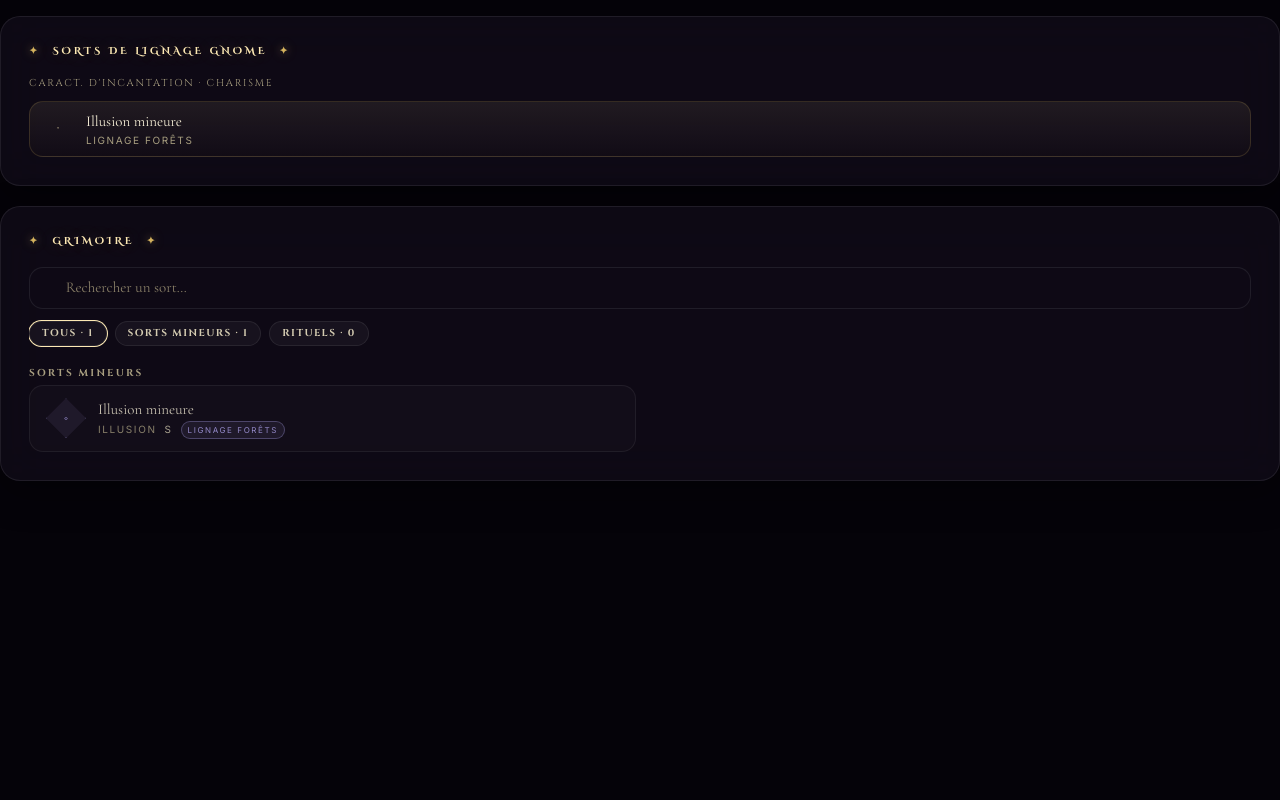
Scenario: <MagieMode> — sort d'ascendance ouvre la modale détail (non-caster) › Gnome Forêt Roublard L1 → clic sur Illusion mineure ouvre la modale + cantrip lançable
Click the button "· Illusion mineure Lignage Forêts" at (134, 121), box [29,101,1251,157]
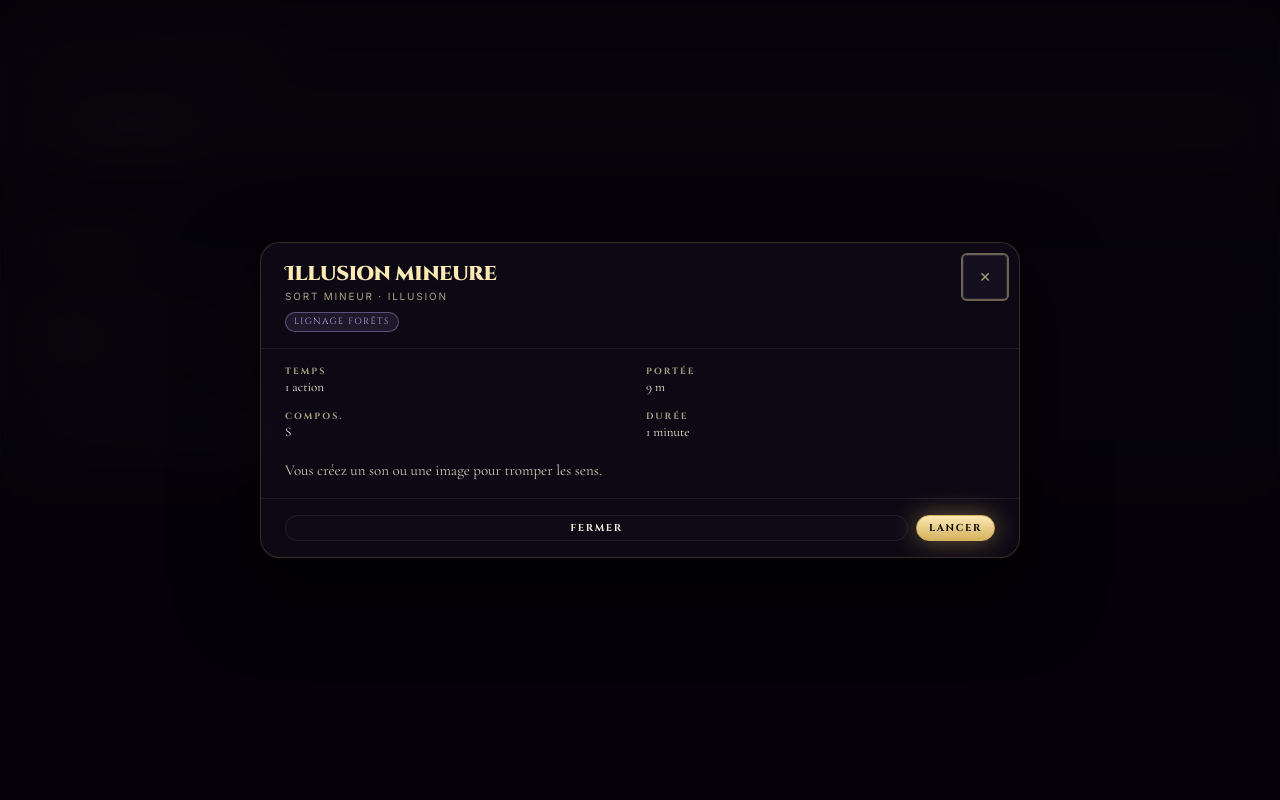
Check: the heading "Illusion mineure" is shown, box [285,260,496,287]
Check: the text "Vous créez un son ou une image pour tromper les sens." is shown, box [285,461,602,479]
Check: the button "Lancer" is enabled, box [916,515,995,541]
